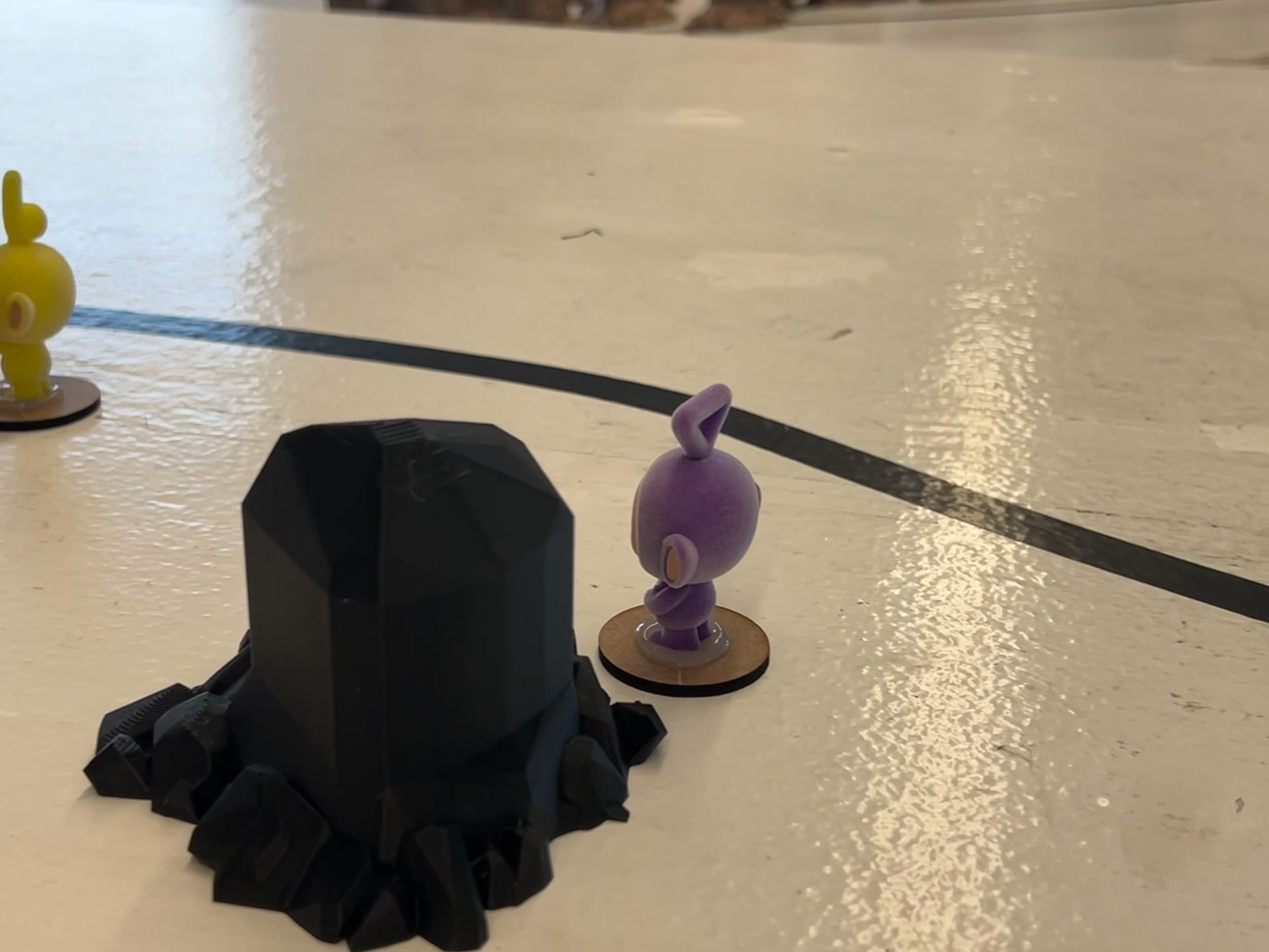teletubby: (631, 384, 761, 651), (0, 171, 75, 400)
